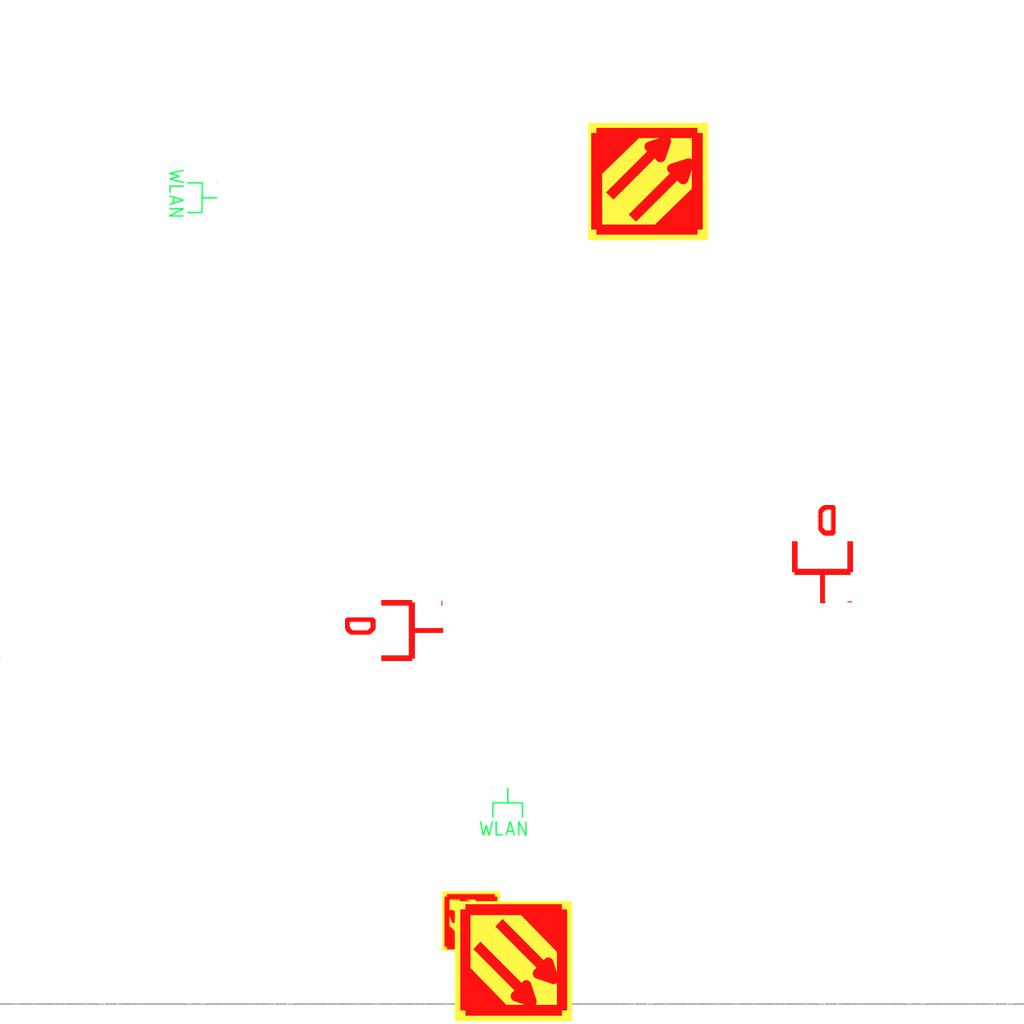ASR_Ansaugrauchmelder: (586, 119, 711, 244), (451, 899, 576, 1024), (440, 890, 502, 952)
Datenanschluss_einfach: (345, 596, 445, 665), (788, 505, 857, 605)
WLAN: (477, 786, 529, 838), (167, 167, 219, 219)
